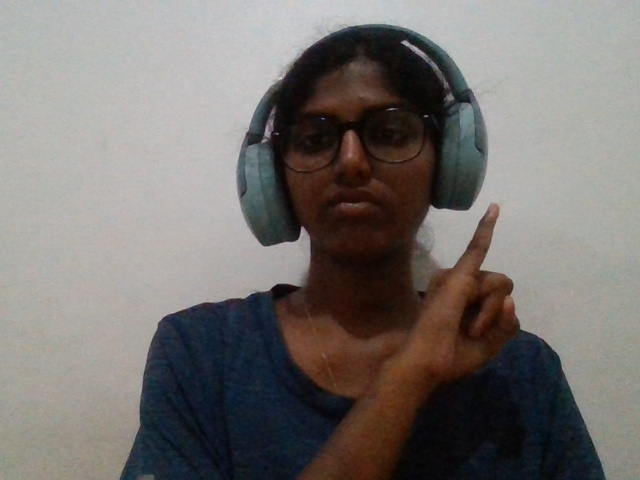I: (385, 187, 543, 422)
